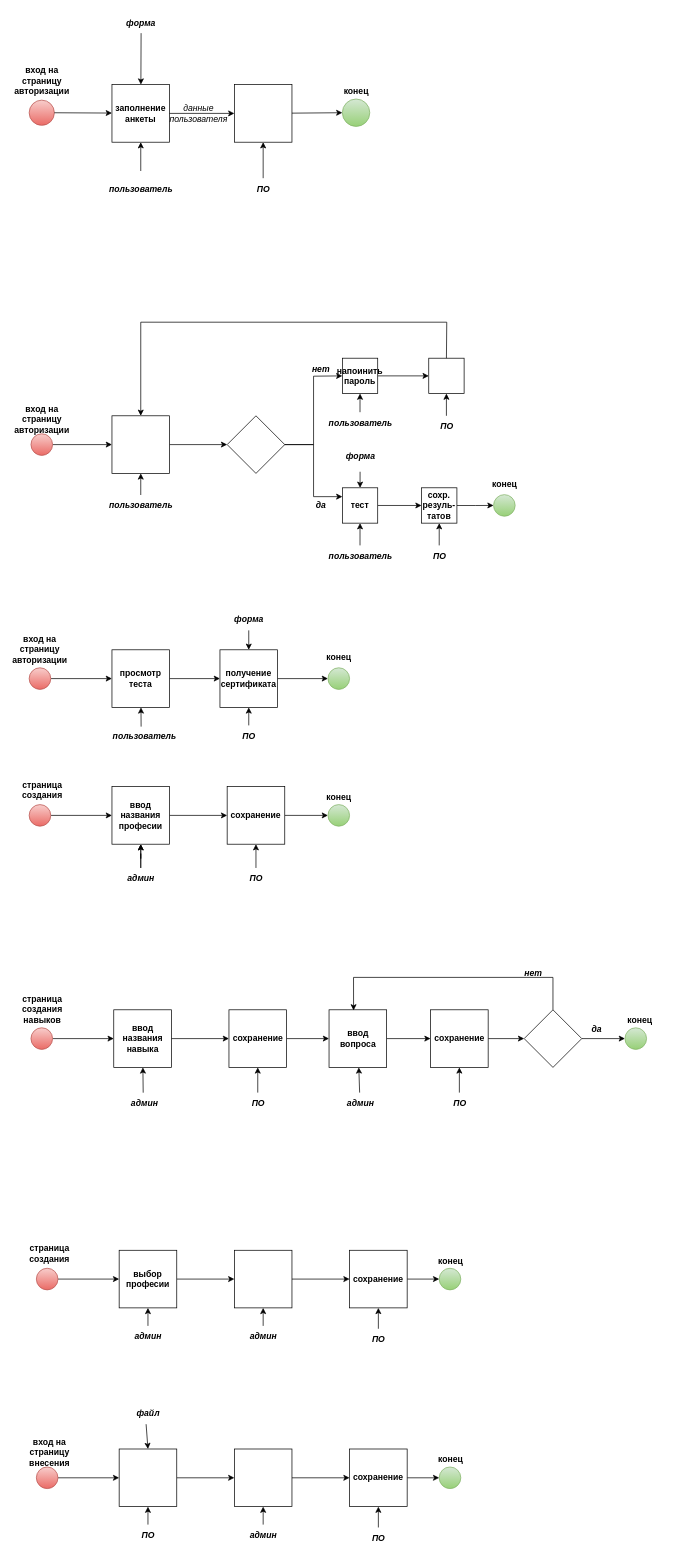
The diagram is 673 pixels wide and 1561 high, and some of its shapes have lost their labels. The shapes that lost their labels are listed below. From the top down, each one's box as (x1, y1, x2, y2) in pixels, then its label:
(234, 84, 292, 142): создание учетной записи
(428, 357, 464, 394): новый пароль
(111, 415, 170, 473): ввод учетных данных
(226, 415, 285, 473): проверка учетных данных
(523, 1009, 582, 1067): всё?
(234, 1250, 292, 1308): заполнение баллов
(118, 1448, 177, 1507): подготовка файла
(234, 1448, 292, 1507): выбор типа сертификата
